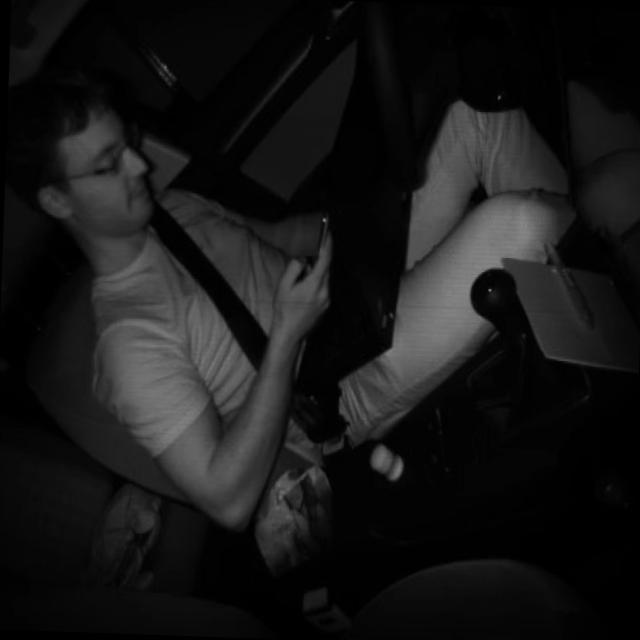pen: (542, 232, 601, 336)
